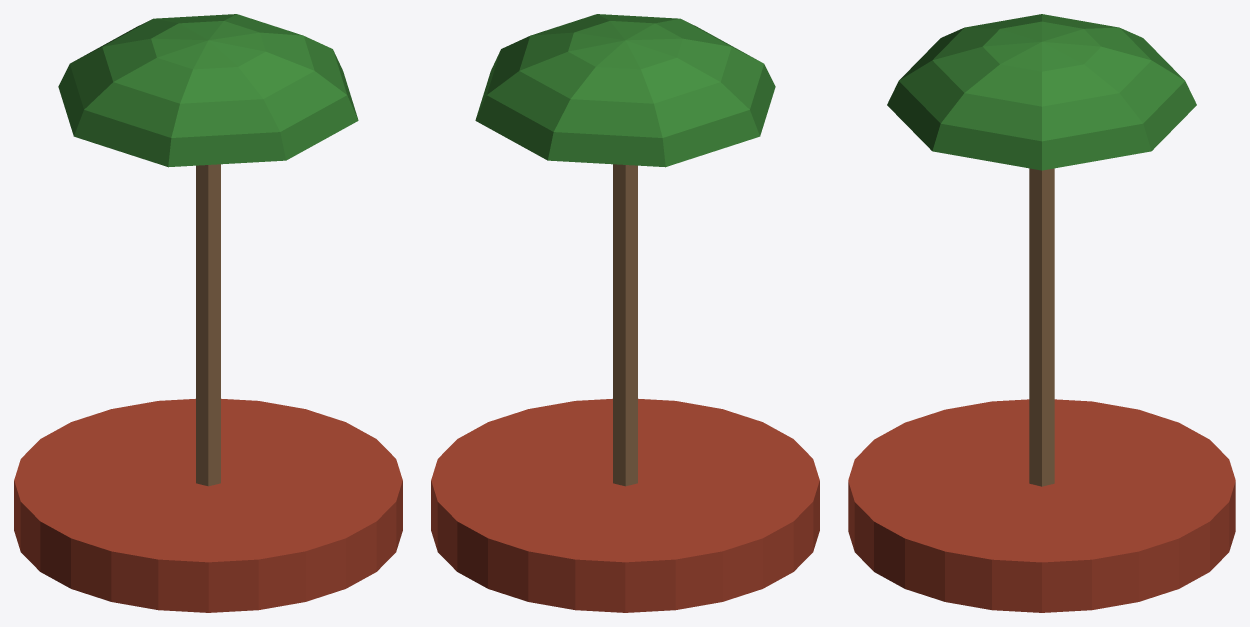
The model's file is rb_scpalm.glb.
3 renders of one model, left to right at view 1: azimuth 30°, elevation 25°; view 2: azimuth 150°, elevation 25°; view 3: azimuth 270°, elevation 25°, orthographic.
Parts seen in each view (by area): view 1: rb_scpalm_lod0; view 2: rb_scpalm_lod0; view 3: rb_scpalm_lod0.
Boxes of the visible parts, <box> form: rb_scpalm_lod0: <box>14,14,402,612</box>; rb_scpalm_lod0: <box>431,14,819,612</box>; rb_scpalm_lod0: <box>848,14,1235,612</box>.
Size of what is drawn, in the model's own units: 8 by 11.14 by 8.
